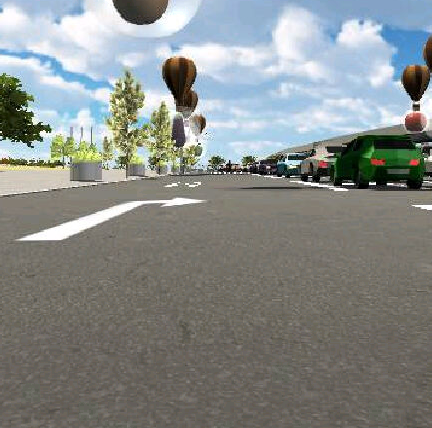ground_right: (109, 197, 208, 208)
